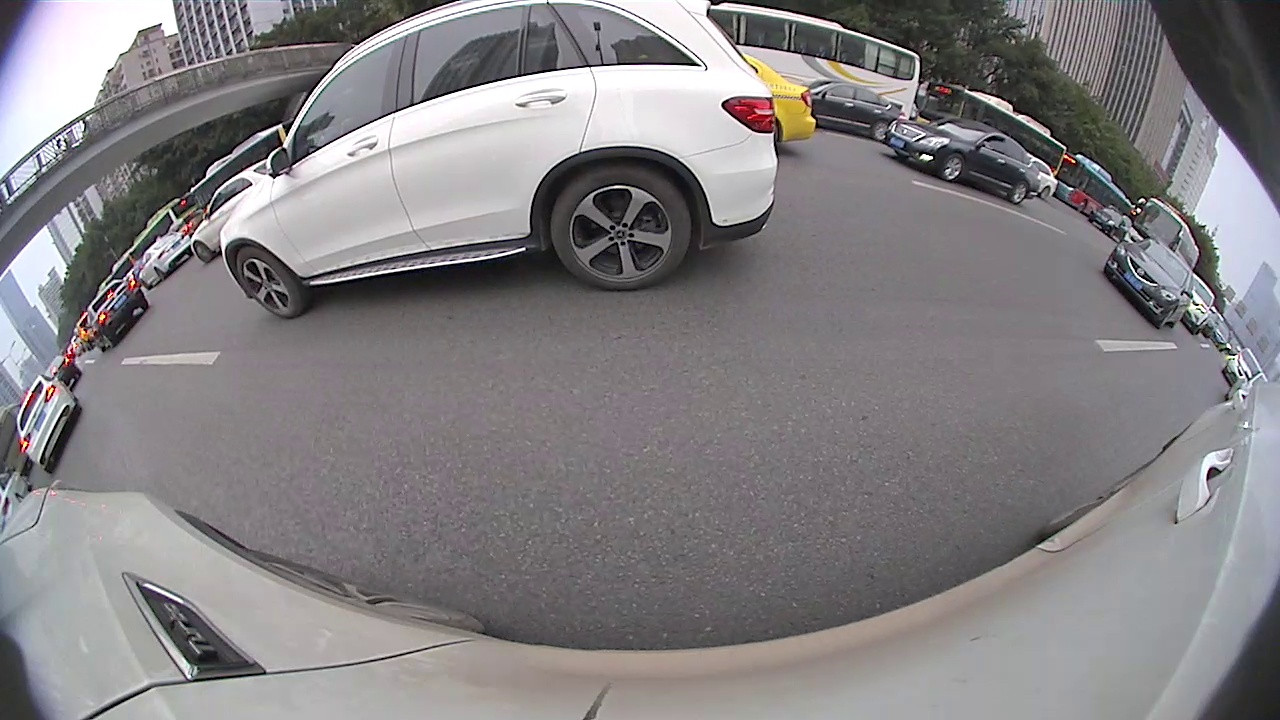bus: (697, 4, 924, 122), (915, 78, 1067, 190), (1051, 150, 1138, 238), (1131, 196, 1201, 270)
car: (221, 1, 783, 323), (881, 114, 1043, 207), (190, 171, 291, 263), (1100, 238, 1193, 332), (738, 48, 817, 153), (13, 374, 84, 474), (806, 76, 909, 141), (85, 278, 153, 352), (135, 232, 197, 282), (1179, 267, 1217, 336)
front: (235, 249, 301, 320), (940, 154, 963, 180)
rear: (553, 167, 691, 288), (1010, 181, 1027, 205), (872, 122, 887, 142)
